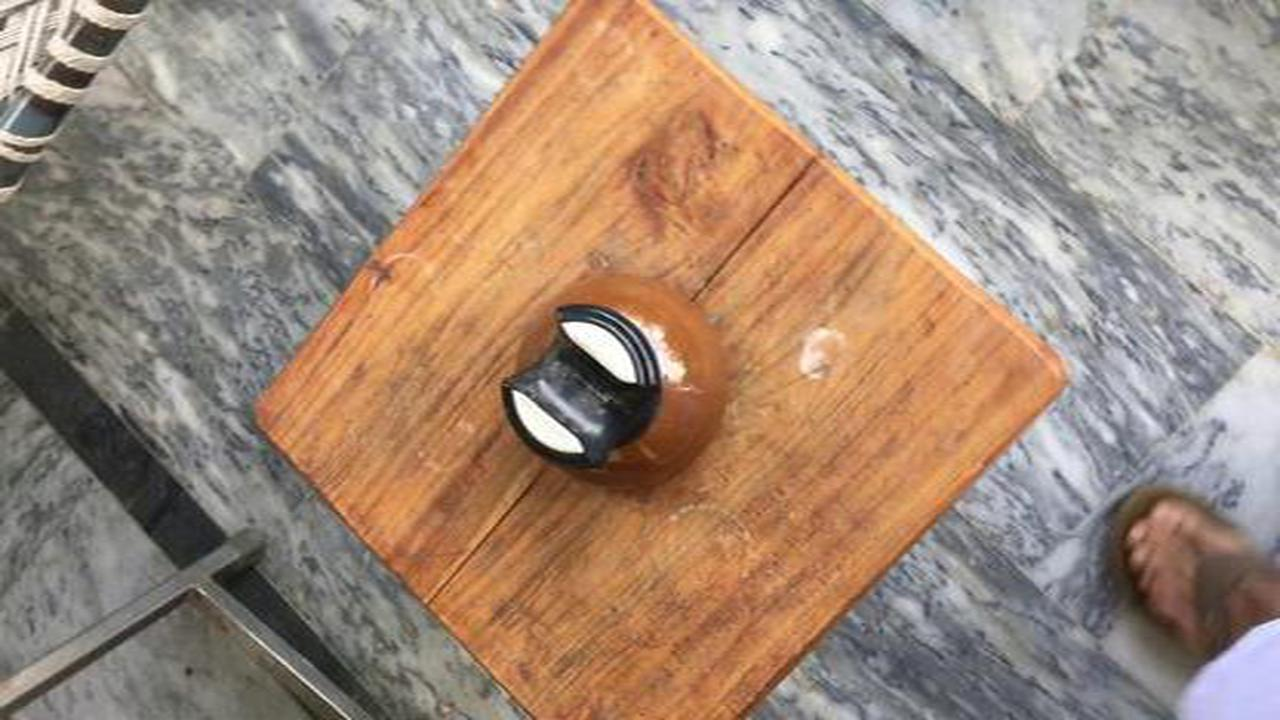insulator_pin: (477, 269, 748, 508)
